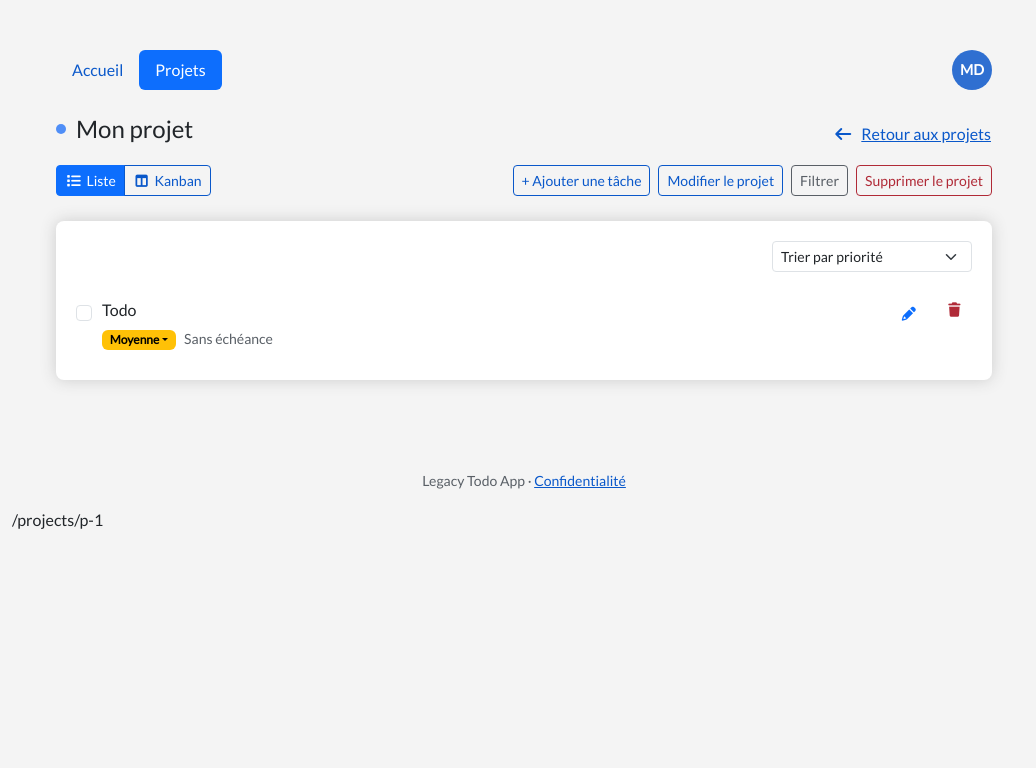
Test case: kanban view › the view toggle switches between list and kanban and reports the pressed state
Expected: the text "Todo" is shown, 102,300 -> 136,319
Expected: the heading "Haute" is not shown
Click the button "Kanban" at (167, 180), box 124,165 -> 210,196
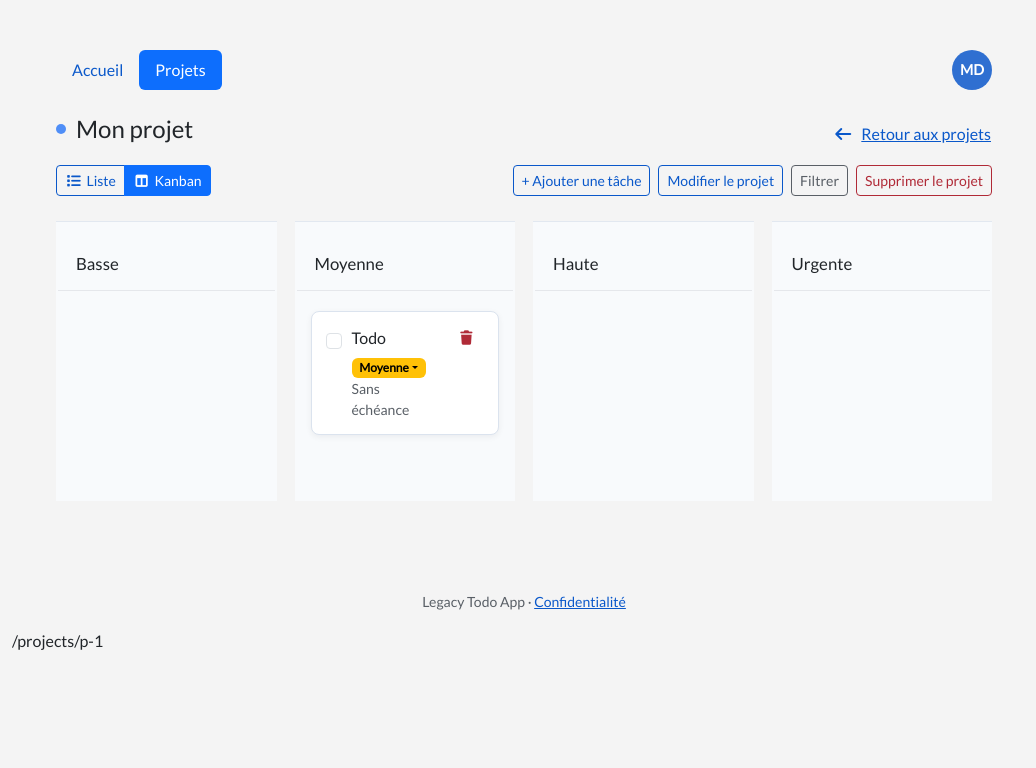
Expected: the heading "Haute" is shown, 535,238 -> 752,291
Click the button "Liste" at (90, 180), box 56,165 -> 125,196
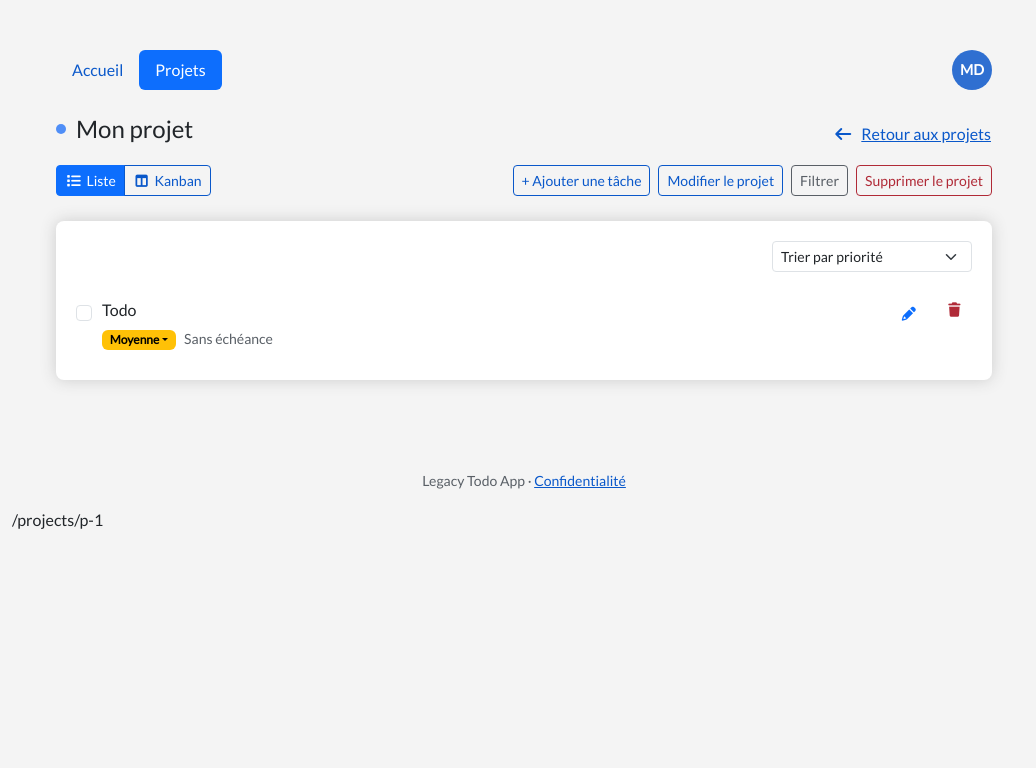
Expected: the heading "Haute" is gone
